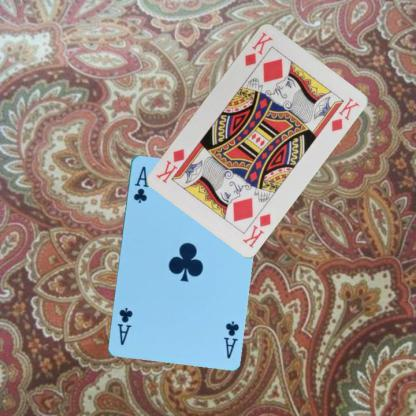Ac: (221, 318, 240, 359), (131, 164, 150, 204)
Kd: (239, 210, 272, 249), (241, 29, 274, 67)
